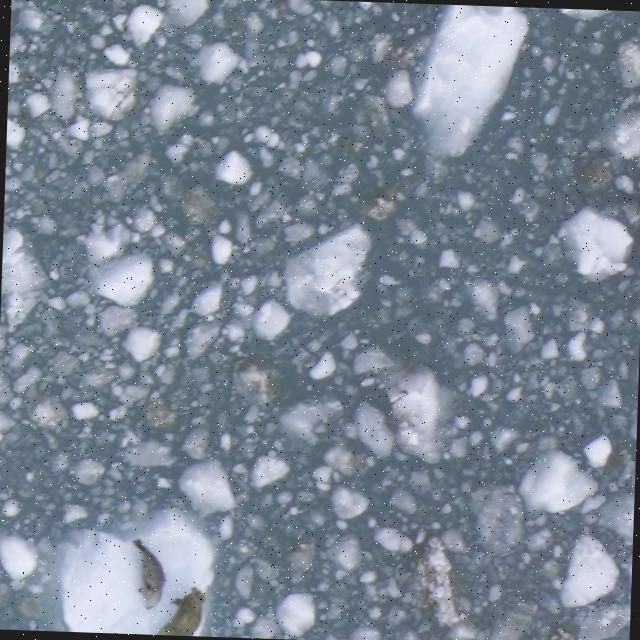seal: (128, 535, 171, 614), (150, 583, 209, 635)
